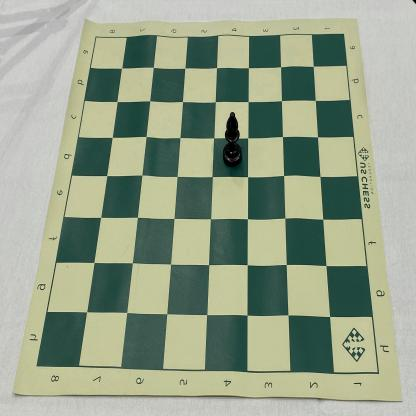black-bishop: (222, 112, 242, 167)
